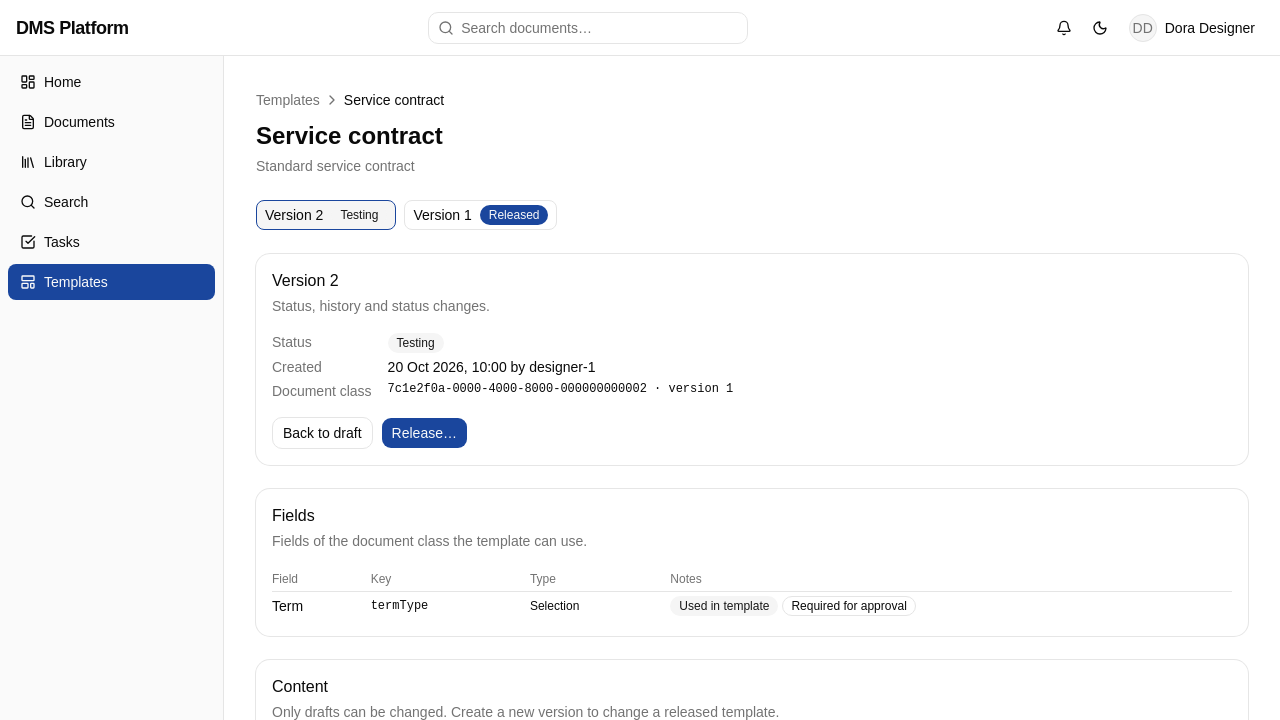
Template page › explains a release refused by the four-eyes principle
This screenshot has width=1280, height=720.
Click the button "Release…": x=424, y=433 [381, 417, 468, 449]
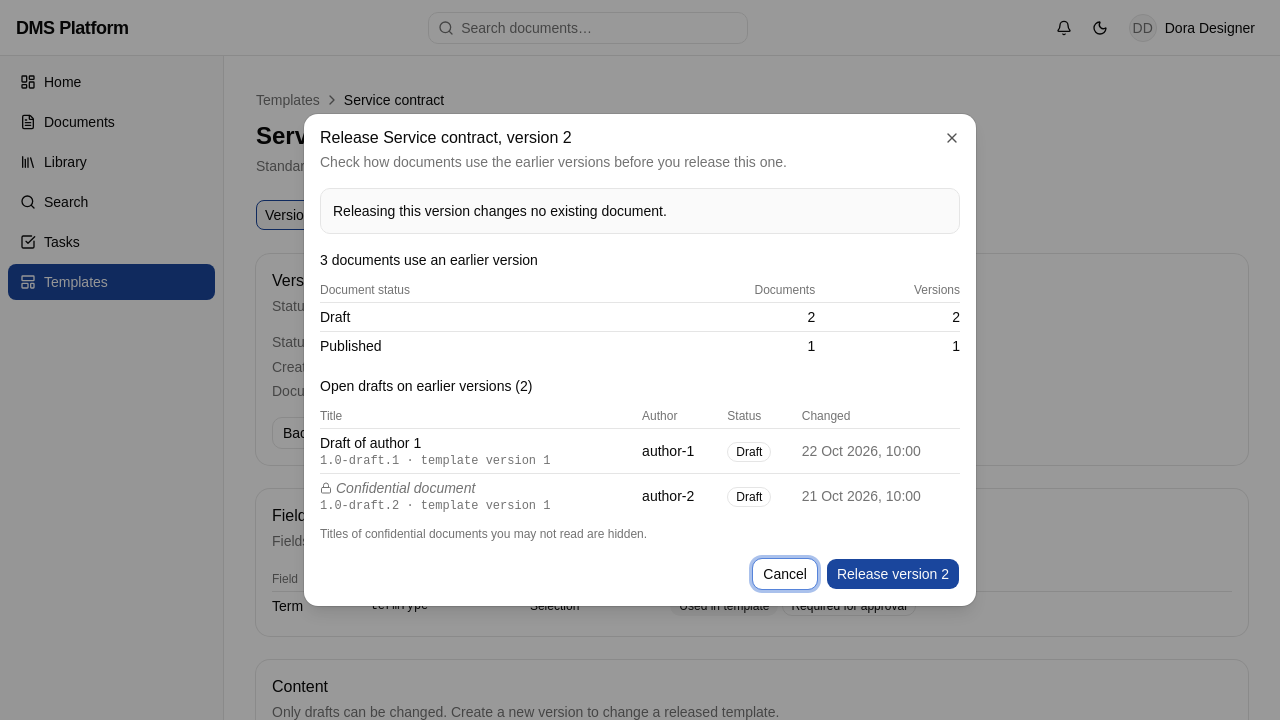
Click the button "Release version 2": x=893, y=574 [826, 558, 960, 590]
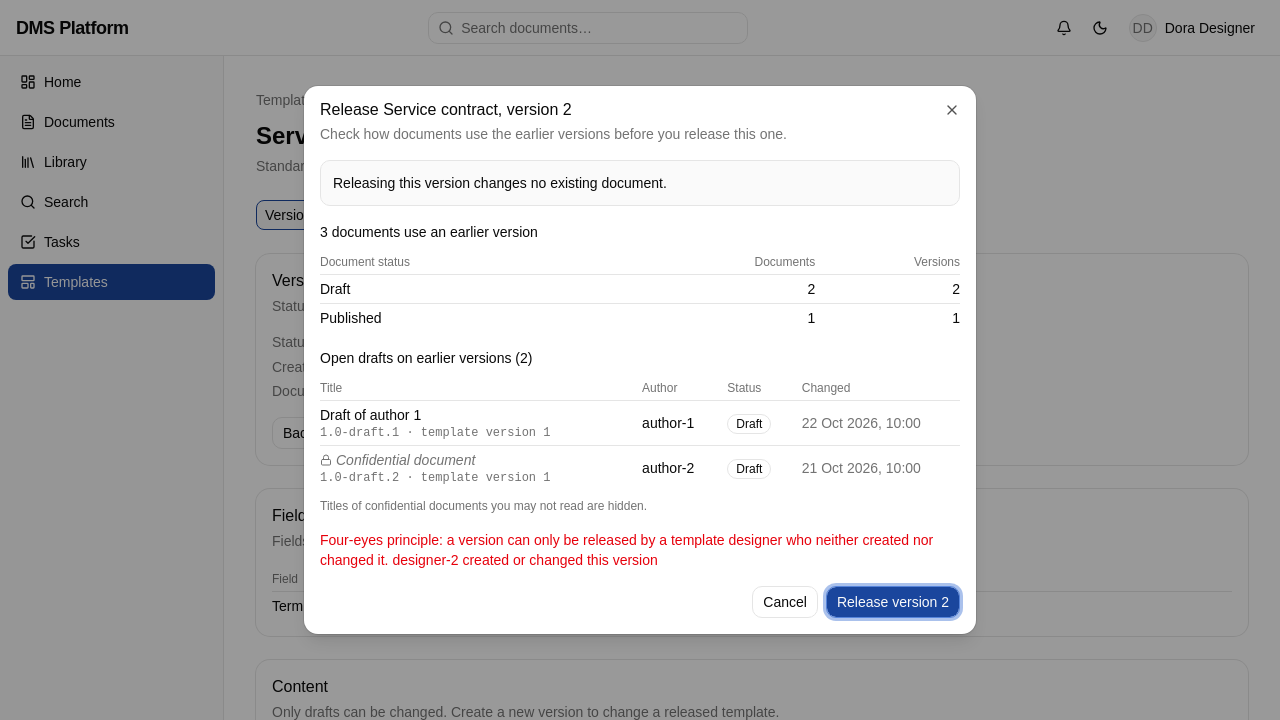
Check: the message shows "Four-eyes principle", box [320, 532, 933, 568]
Check: the message shows "designer-2 created or changed this version", box [320, 532, 933, 568]
